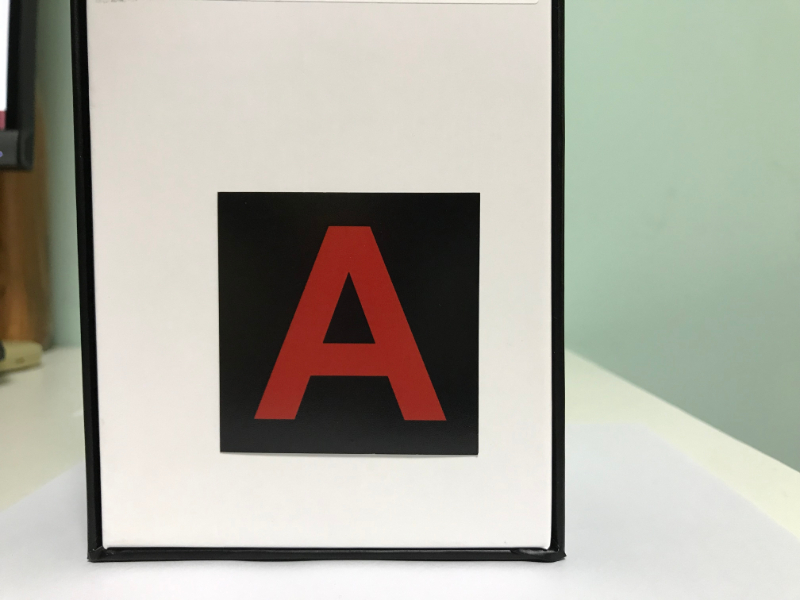A-11: (222, 194, 479, 453)
